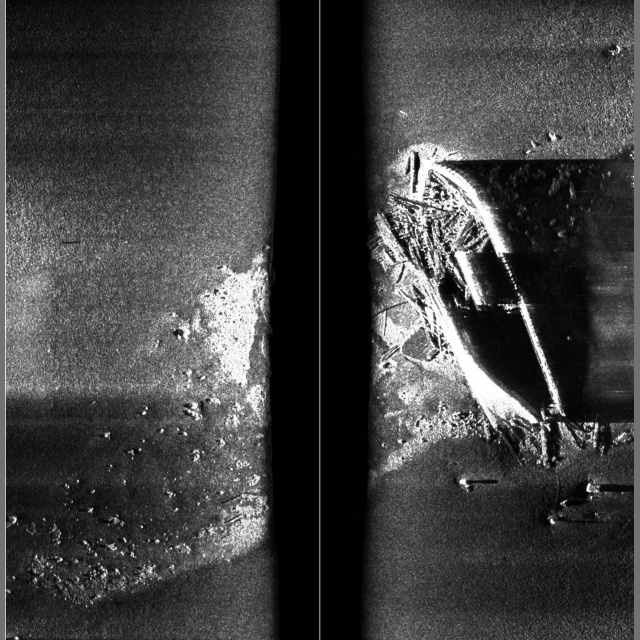Shipwreck: (219, 43, 633, 530)
